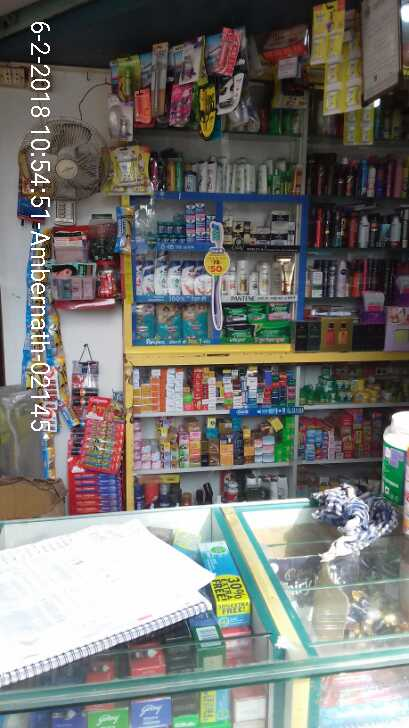beauty: (154, 261, 169, 294), (269, 208, 292, 229), (233, 256, 245, 294), (258, 261, 271, 296), (183, 259, 196, 293), (228, 219, 244, 244), (169, 260, 181, 293), (268, 228, 289, 245), (247, 270, 257, 297)
pharmacy: (154, 302, 182, 339), (184, 201, 210, 237), (134, 303, 155, 340), (256, 321, 290, 341), (185, 305, 206, 337), (221, 298, 247, 323), (247, 298, 263, 323), (226, 324, 251, 338), (264, 303, 293, 315), (156, 219, 168, 237), (164, 221, 172, 235), (174, 219, 182, 232)
